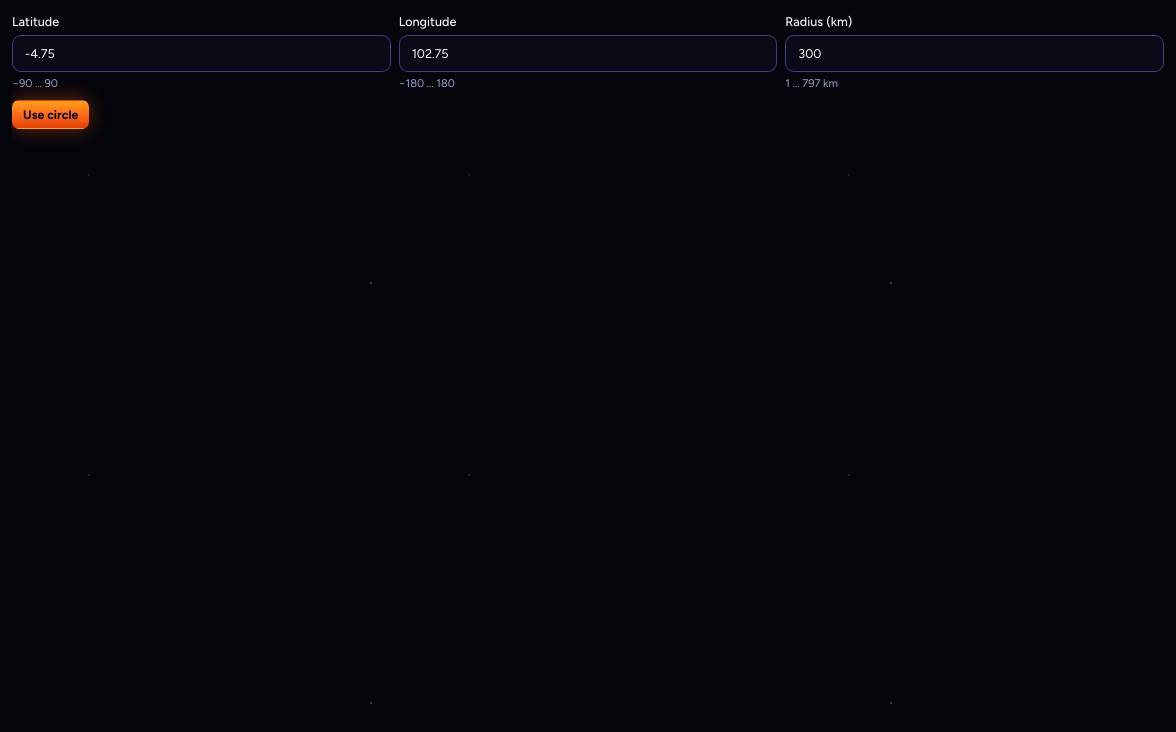
Test: CircleForm › shows field errors and keeps the AOI unchanged for invalid input
The image size is (1176, 732).
Step 1. Replace the text in the field labelled "Latitude" with "120" → [201, 53], box [12,34,391,72]
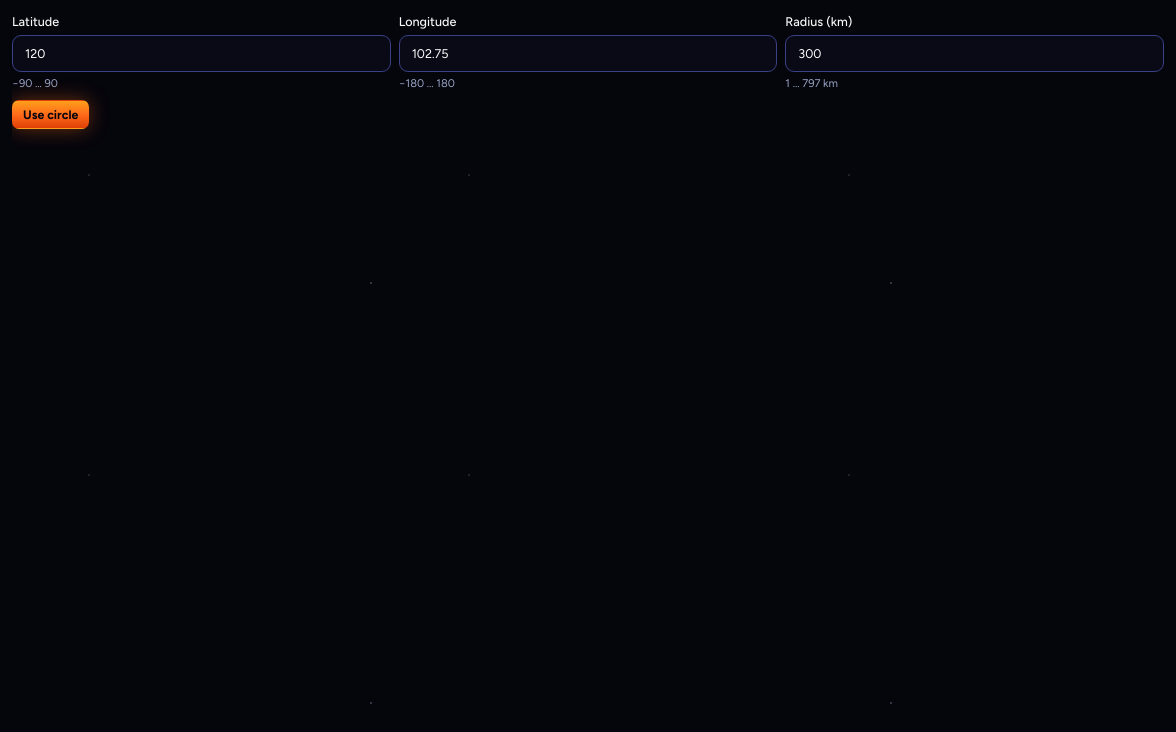
Step 2. Click the button "Use circle" → [51, 115], box [12,100,89,129]
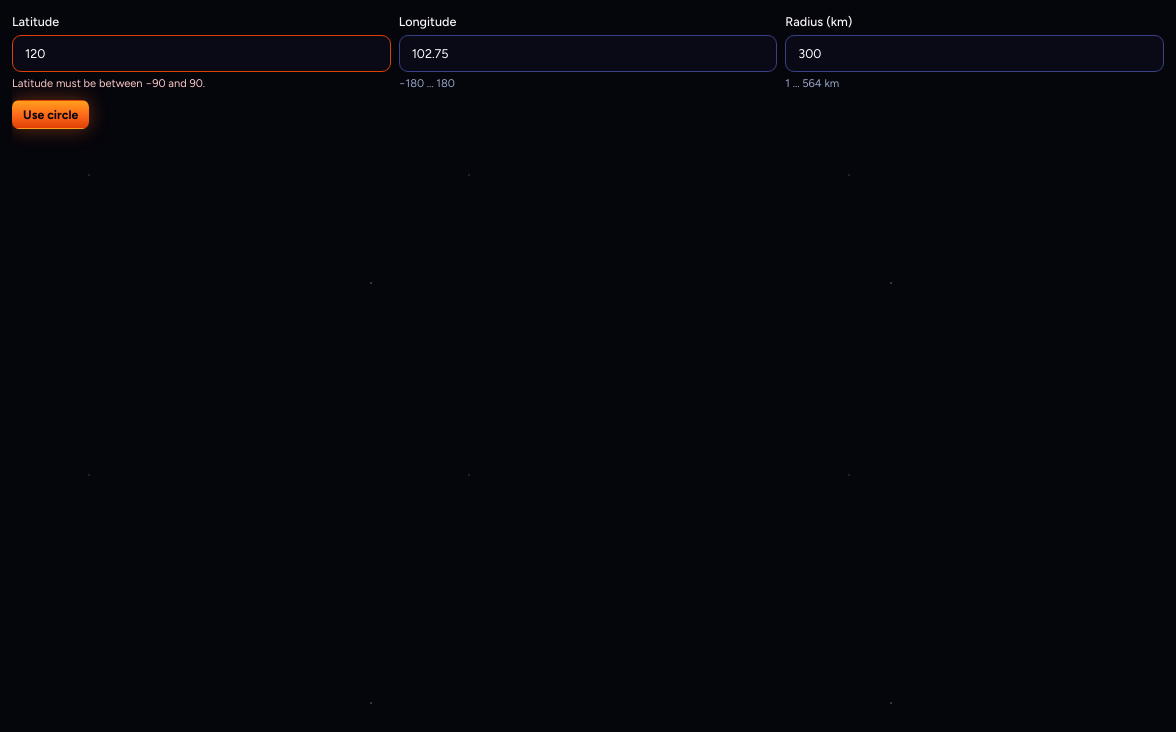
Result: the text "Latitude must be between −90 and 90." is shown at [12,76,205,90]
